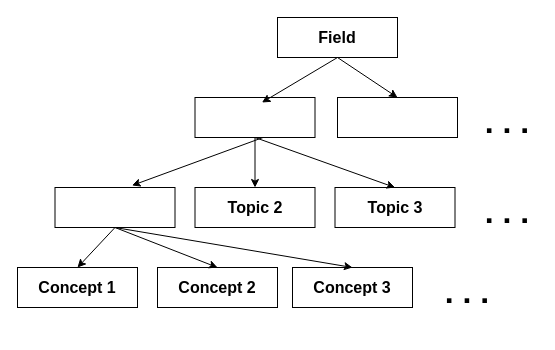
Some shapes in this 555 by 350 pixel diagram are drawn without their labels. The centre of each missing label's shape, as x and y in pixels:
Sub field A: point (254, 117)
Sub field B: point (397, 117)
Topic 1: point (114, 207)
